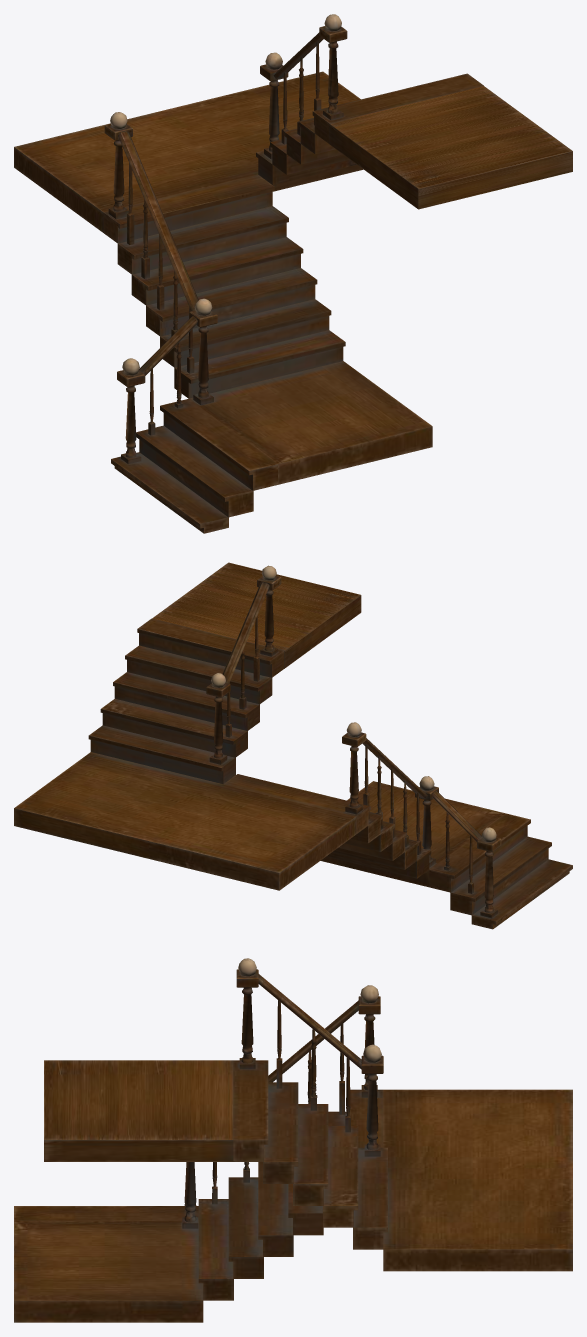
Rendered from stairs-2.glb.
3 renders of one model, top to bottom at view 1: azimuth 30°, elevation 25°; view 2: azimuth 150°, elevation 25°; view 3: azimuth 270°, elevation 25°, orthographic. The views are drawn at different scales.
Visible parts, largest first — view 1: model_obj; view 2: model_obj; view 3: model_obj.
Part boxes in pixels (bbox=[...]): model_obj: bbox=[14, 14, 572, 533]; model_obj: bbox=[14, 562, 572, 929]; model_obj: bbox=[14, 958, 572, 1322].
Size of the model in its own units: 7.11 by 6.66 by 8.39.
Materials: 1 (1 with a texture image).
